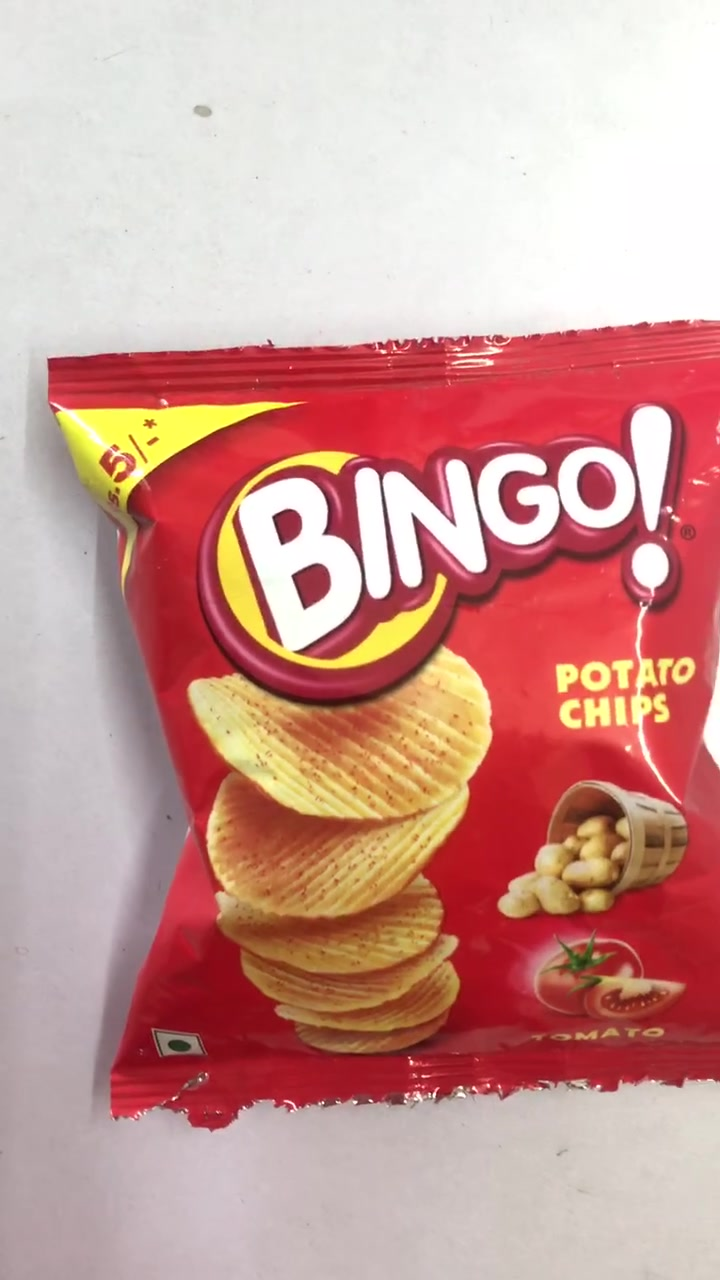Bingo: (52, 348, 720, 1083)
